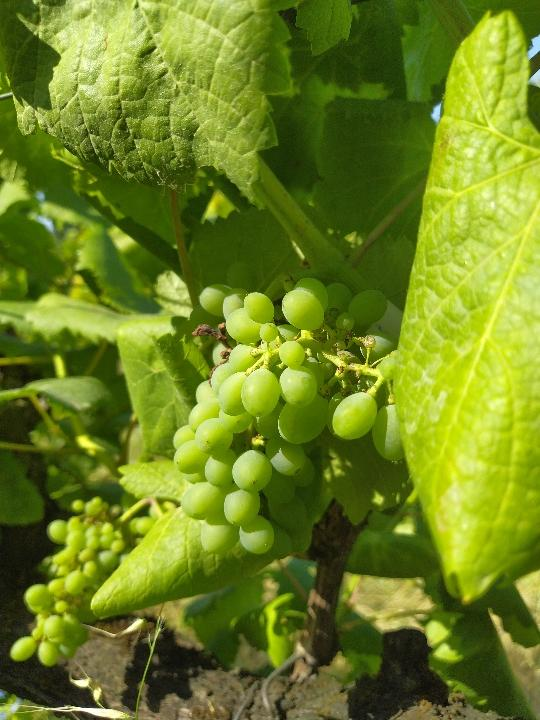grape: (174, 276, 403, 557), (5, 501, 154, 668)
